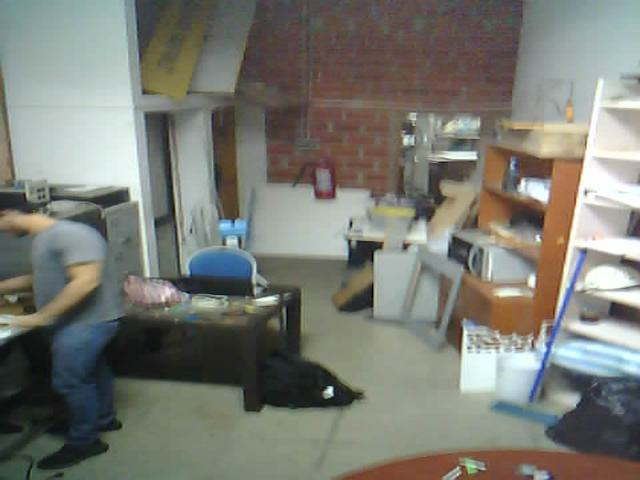person: (0, 170, 146, 474)
